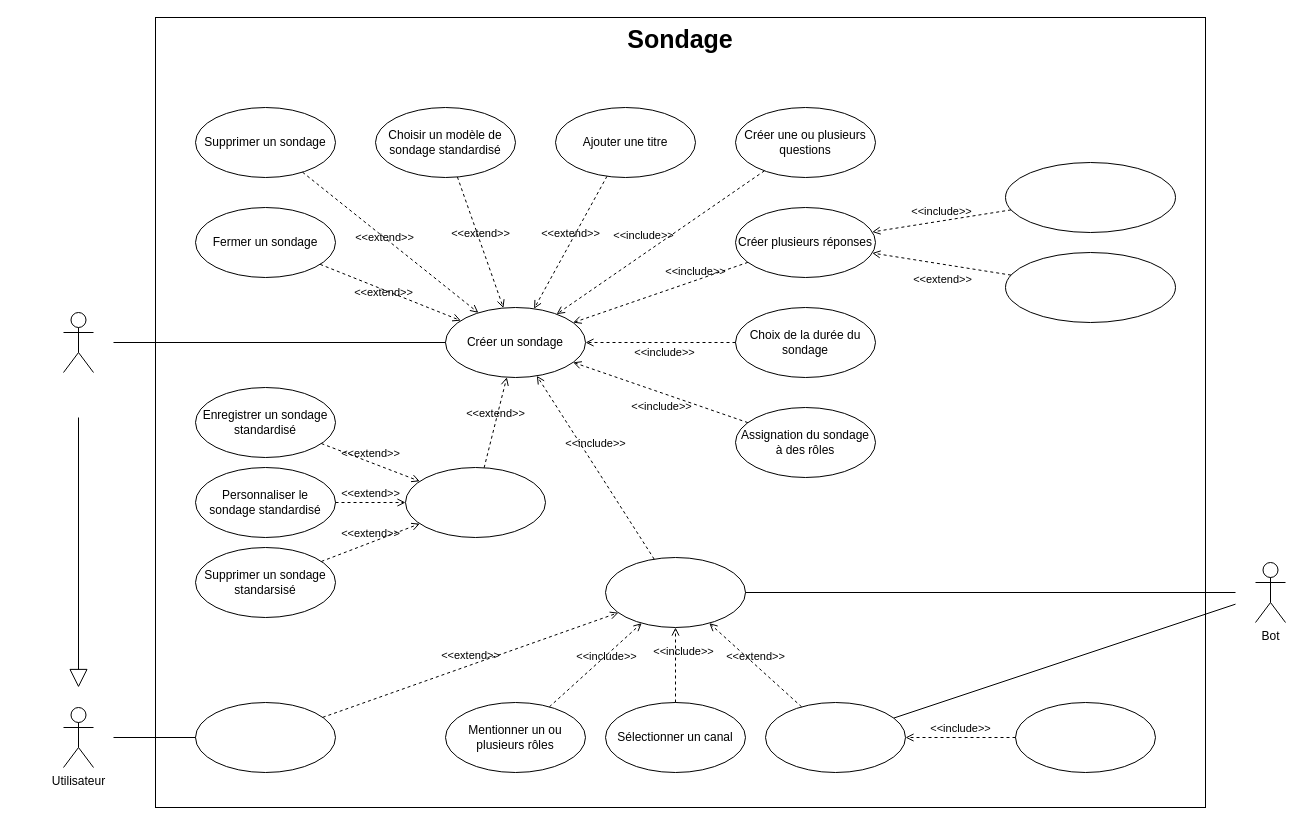
Image size: 1303x825. Some labels were removed from this diagram. Here are the shapes that lost their labels. From the top down, the centre of each, then its label:
At [1090,197]: "Choisir si les réponses sont à choix uniques ou multiples".
At [1090,287]: "Choisir si les réponses sont anonymes".
At [78,342]: "Admin, staff, formateurs et délégués".
At [475,502]: "Créer un sondage standardisé".
At [675,592]: "Envoyer un sondage".
At [265,737]: "Répondre au sondage".
At [835,737]: "Envoyer un rappel".
At [1085,737]: "Sélectionner un ou plusieurs utilisateurs".
